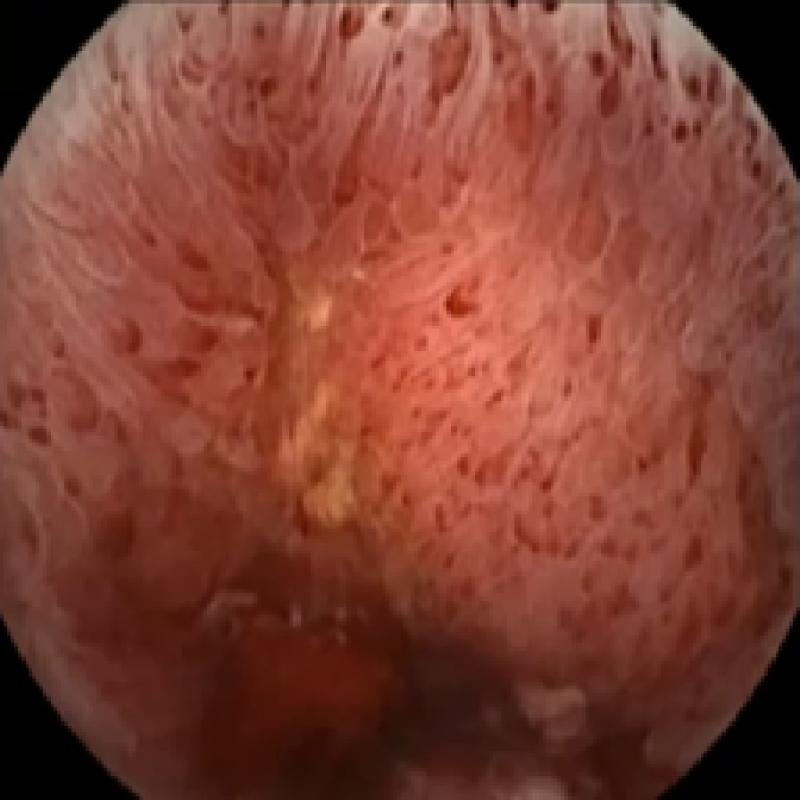bleeding: (68, 421, 643, 800)
